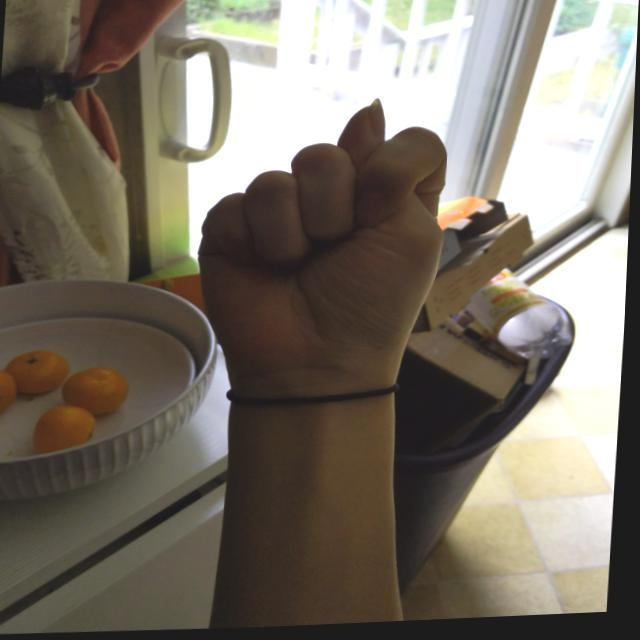T: (186, 92, 470, 404)
